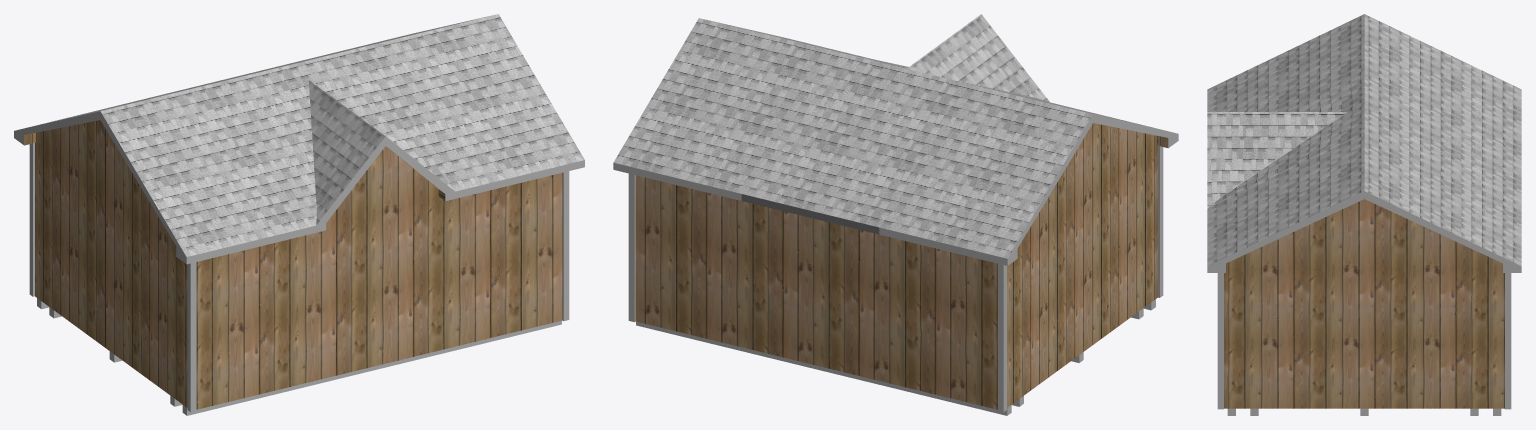
File: Victorian Shed_12x16.obj
The picture shows the model from 3 angles, left to right: view 1: azimuth 30°, elevation 25°; view 2: azimuth 150°, elevation 25°; view 3: azimuth 270°, elevation 25°; orthographic projection. The views are drawn at different scales.
Visible parts, largest first — view 1: Shed, Roof, Sides, Trim, Floor; view 2: Shed, Roof, Sides, Trim, Floor; view 3: Roof, Shed, Sides, Trim, Floor.
Part boxes in pixels (bbox=[...]): Shed: bbox=[24, 120, 562, 409]; Roof: bbox=[22, 14, 584, 256]; Sides: bbox=[14, 111, 584, 264]; Trim: bbox=[29, 143, 569, 412]; Floor: bbox=[37, 298, 561, 415]; Shed: bbox=[635, 123, 1168, 409]; Roof: bbox=[613, 14, 1170, 258]; Sides: bbox=[613, 114, 1178, 265]; Trim: bbox=[628, 146, 1163, 412]; Floor: bbox=[636, 299, 1155, 415]; Roof: bbox=[1207, 14, 1521, 266]; Shed: bbox=[1224, 199, 1504, 408]; Sides: bbox=[1207, 191, 1521, 272]; Trim: bbox=[1217, 273, 1511, 409]; Floor: bbox=[1227, 408, 1501, 415].
Bounding box in the file's own units: 5.18 × 3.14 × 3.89.
